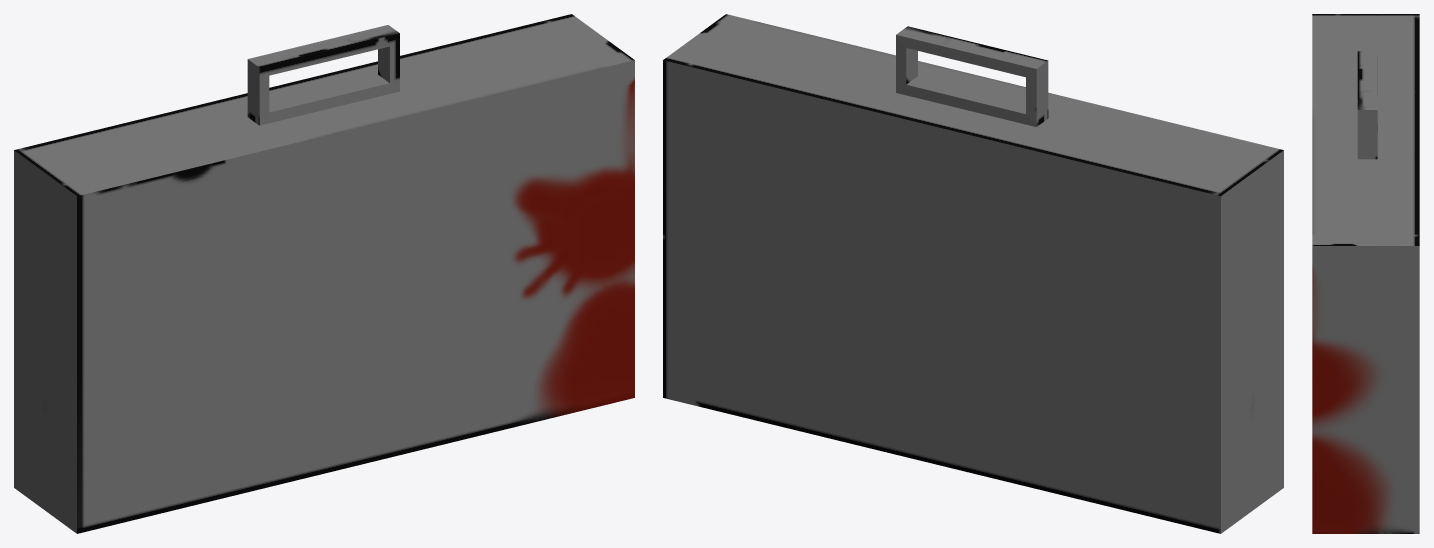
The model's file is mala.fbx.
3 renders of one model, left to right at view 1: azimuth 30°, elevation 25°; view 2: azimuth 150°, elevation 25°; view 3: azimuth 270°, elevation 25°, orthographic. The views are drawn at different scales.
Visible parts, largest first — view 1: homem_negocios; view 2: homem_negocios; view 3: homem_negocios.
Boxes of the visible parts, left/top/right/bottom form: homem_negocios: left=14, top=14, right=634, bottom=533; homem_negocios: left=663, top=14, right=1283, bottom=533; homem_negocios: left=1312, top=14, right=1419, bottom=533.
Size of the model in its own units: 200 by 136 by 39.17.
1 material, 1 textured.
